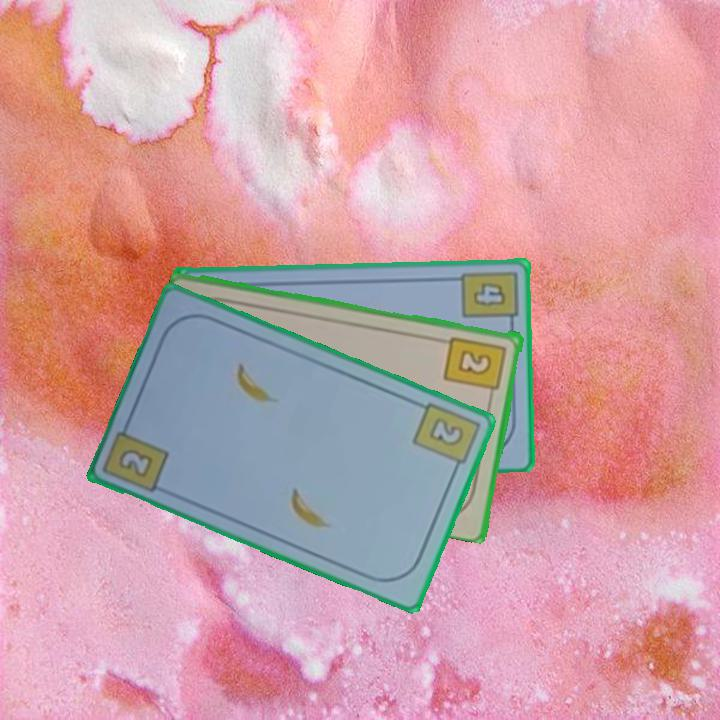2b: (409, 398, 482, 478), (441, 332, 509, 402), (115, 445, 157, 481)
4b: (458, 267, 520, 331)
